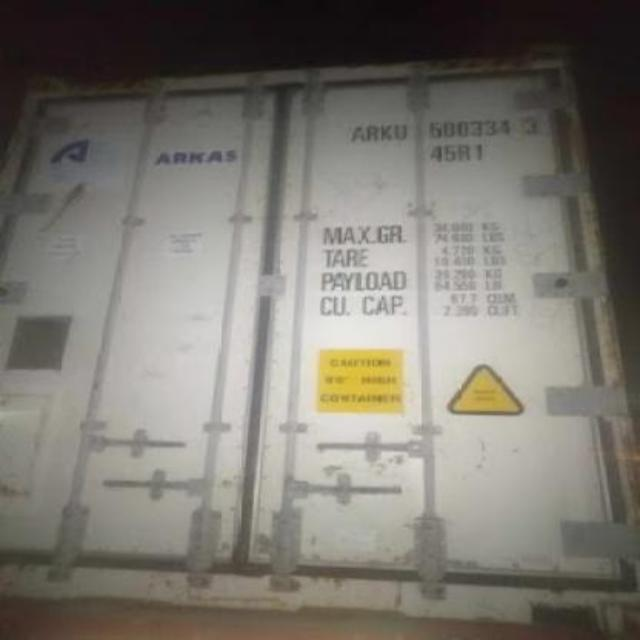0: (442, 120, 456, 138), (456, 120, 469, 138)
3: (522, 118, 542, 138), (470, 120, 486, 140), (484, 118, 500, 138)
4: (498, 119, 514, 137)
5: (428, 122, 442, 140)
A: (350, 126, 366, 144)
K: (378, 122, 394, 142)
R: (364, 124, 380, 142)
U: (392, 124, 410, 142)
